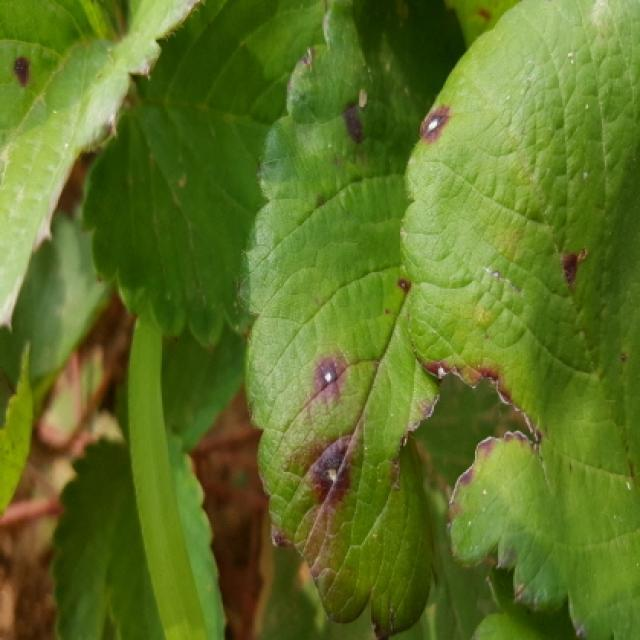Leaf Spot: (398, 0, 638, 638), (242, 0, 470, 638)
